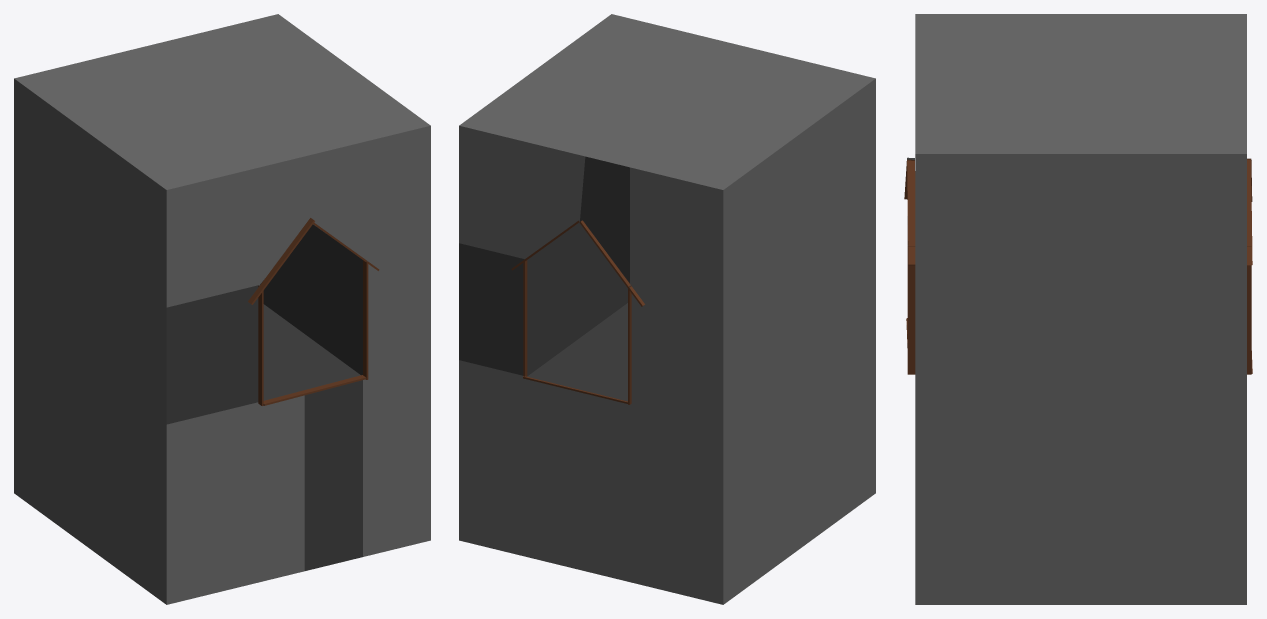
Rendered from muur midden1.6.fbx.
The picture shows the model from 3 angles, left to right: view 1: azimuth 30°, elevation 25°; view 2: azimuth 150°, elevation 25°; view 3: azimuth 270°, elevation 25°; orthographic projection. The views are drawn at different scales.
Visible parts, largest first — view 1: Cube; view 2: Cube; view 3: Cube.
Boxes of the visible parts, <box> form: Cube: <box>14,14,430,604</box>; Cube: <box>459,14,875,604</box>; Cube: <box>904,14,1252,604</box>.
Bounding box in the file's own units: 800 × 1200 × 840.
